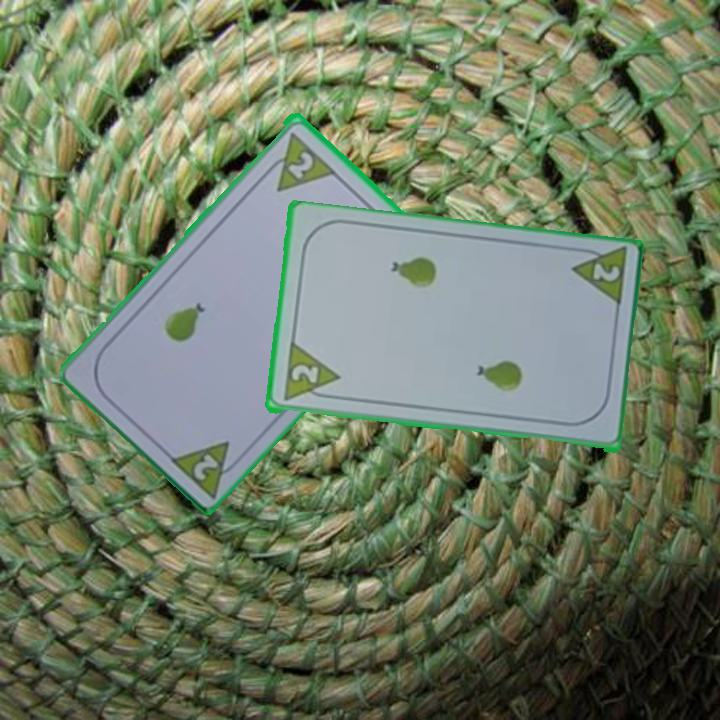2p: (258, 127, 337, 194), (279, 341, 342, 405), (189, 449, 222, 483), (588, 260, 622, 285)
